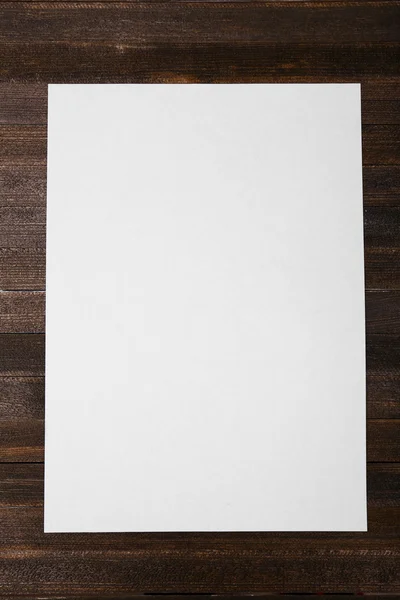page: (47, 84, 362, 529)
